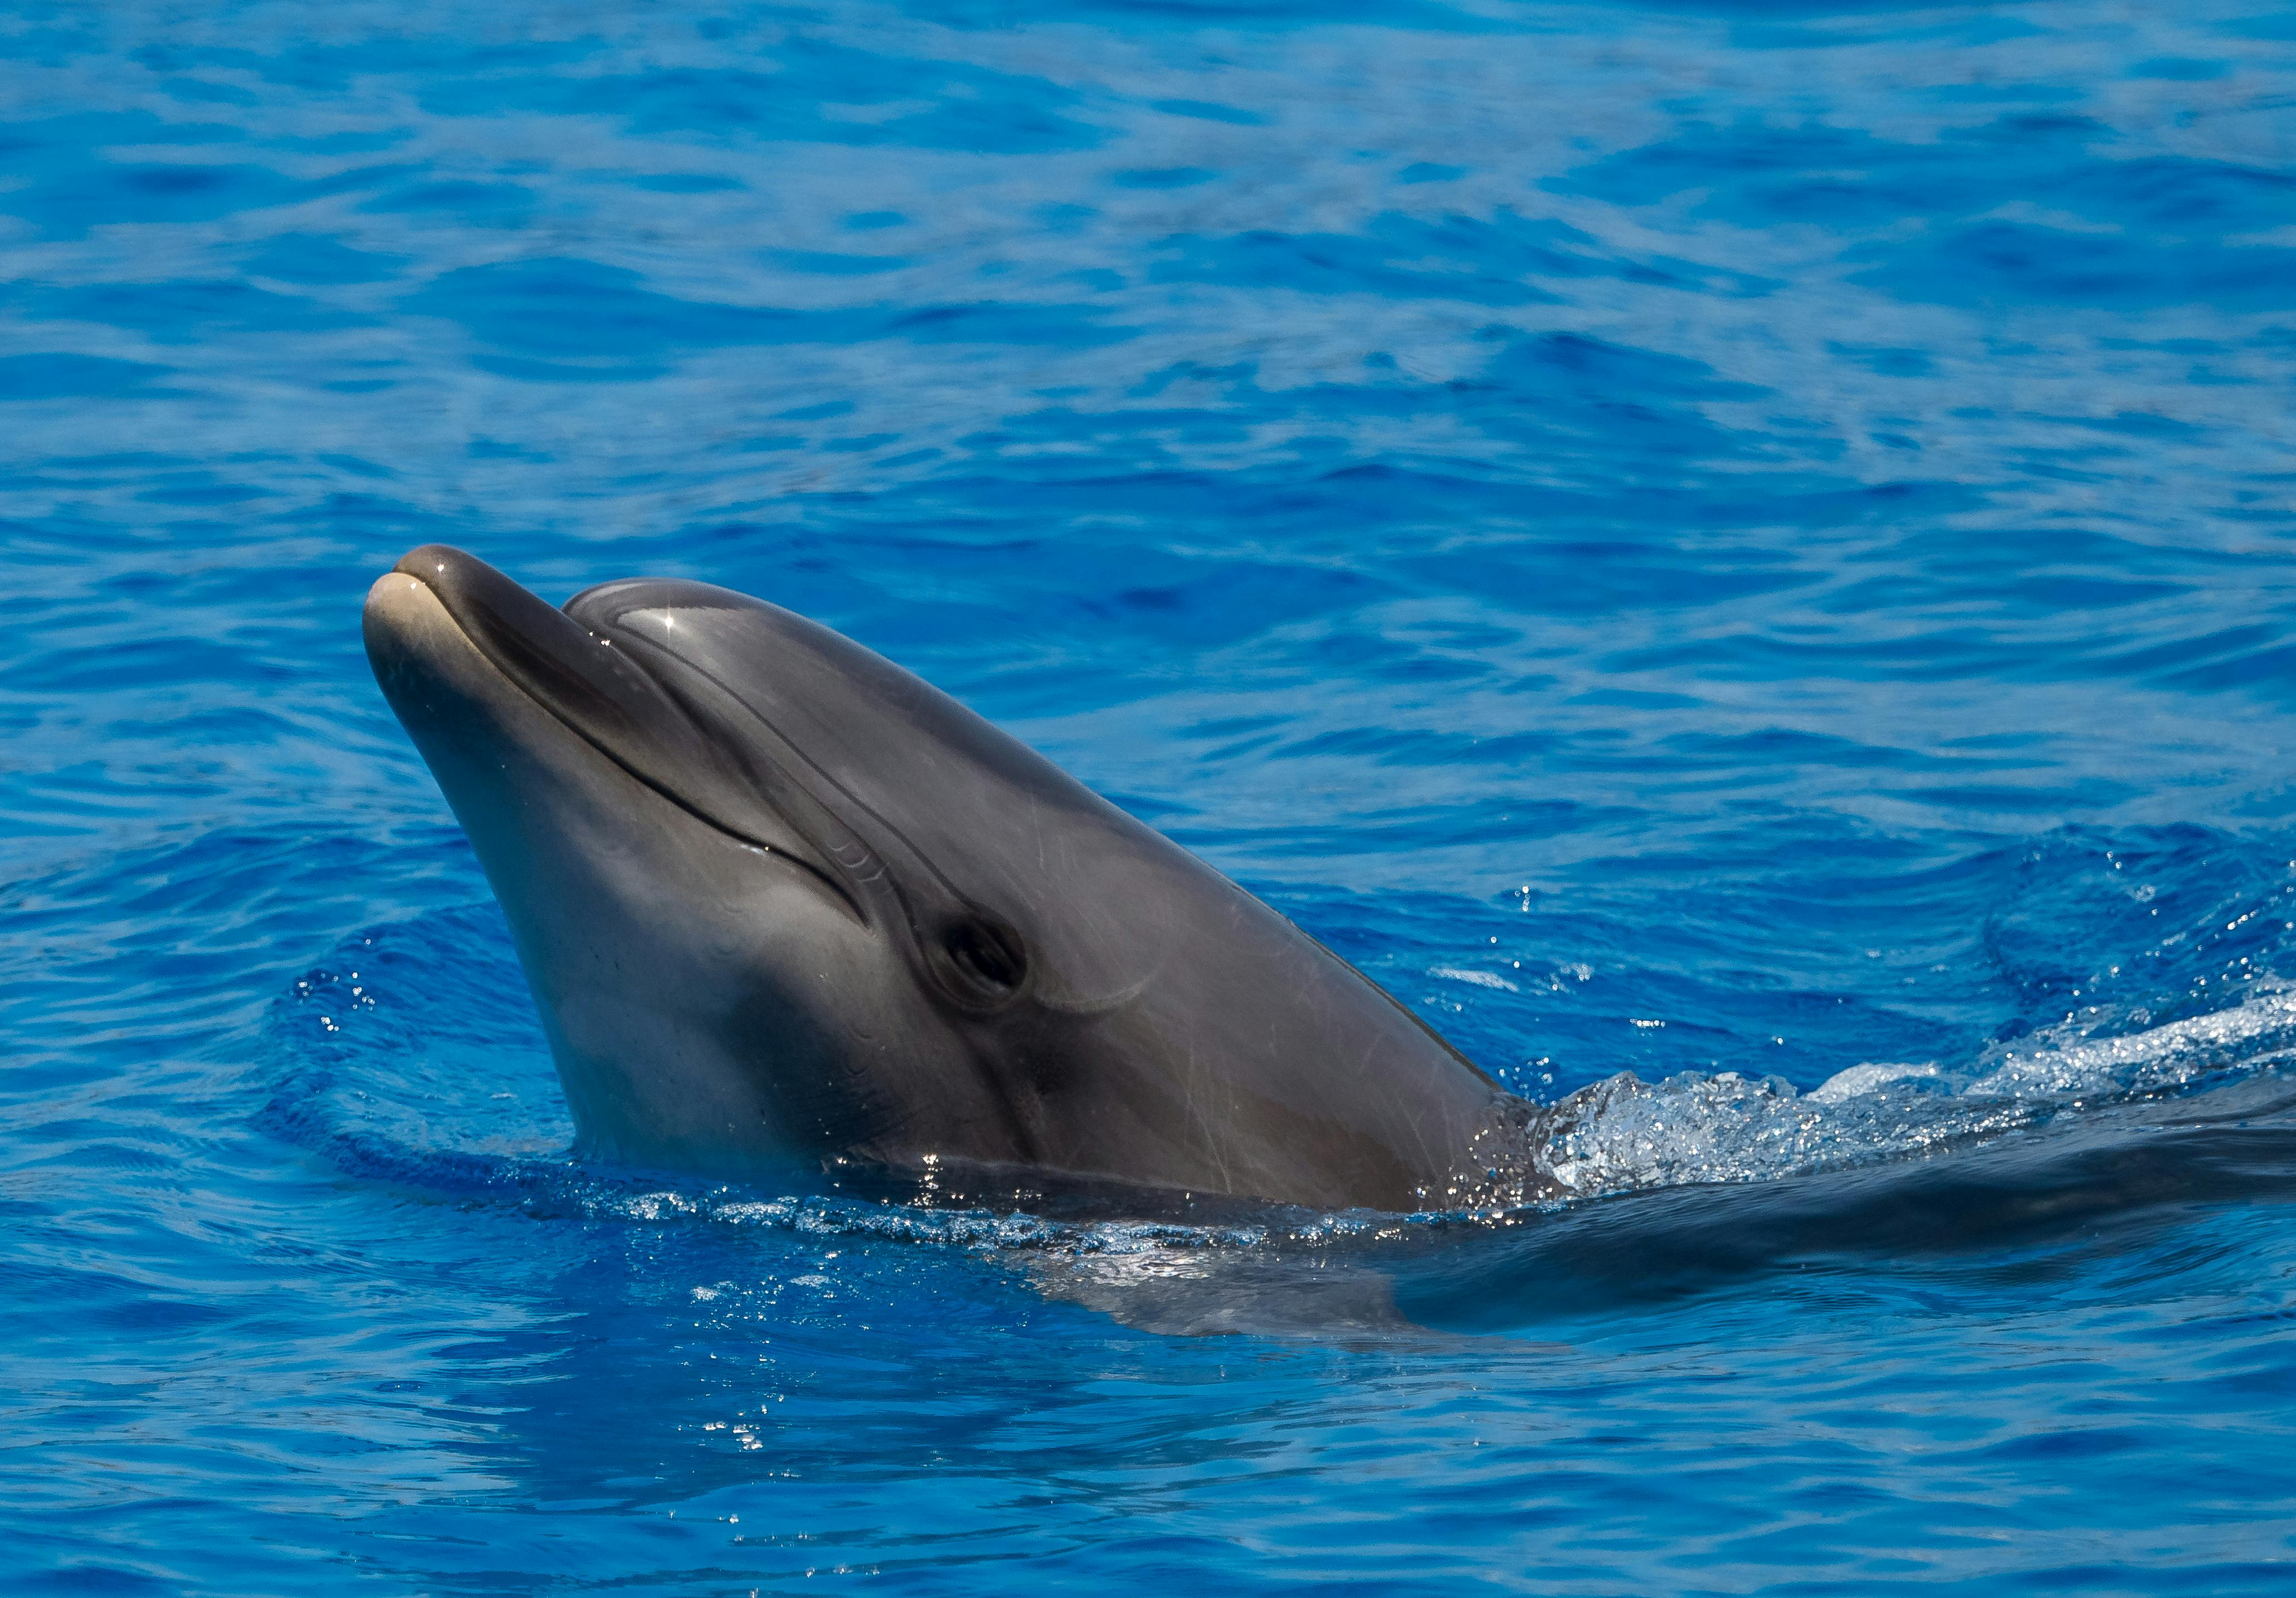dolphin: (352, 525, 1535, 1221)
